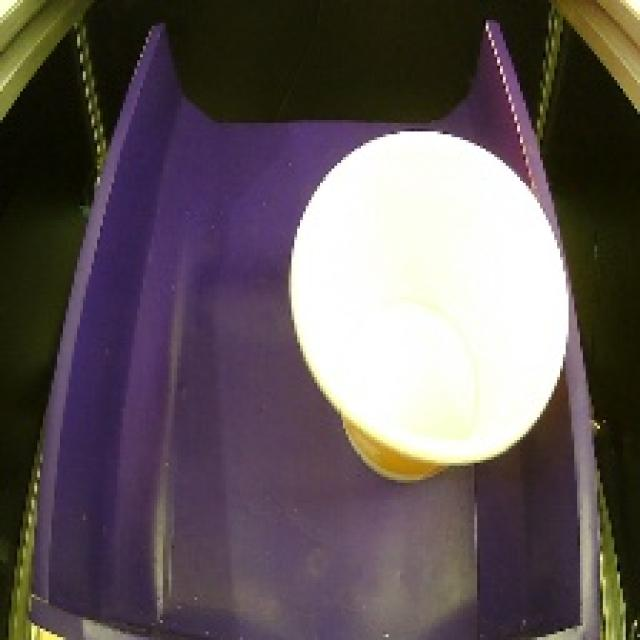cups: (279, 117, 582, 504)
